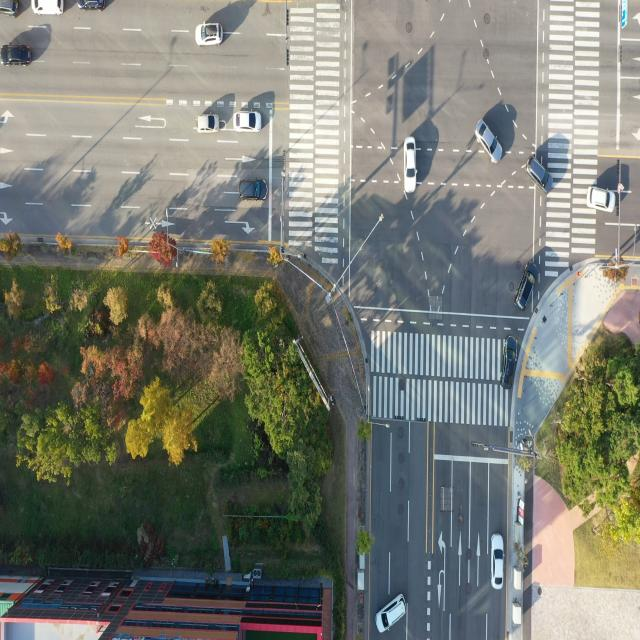car: (516, 258, 542, 313), (477, 120, 505, 168), (376, 594, 407, 636), (525, 156, 553, 193), (500, 332, 518, 389), (0, 42, 32, 69), (404, 135, 418, 194), (587, 185, 617, 212), (490, 534, 504, 591), (195, 23, 224, 47), (28, 0, 66, 18), (239, 179, 267, 201), (236, 110, 262, 131), (198, 112, 222, 132), (77, 0, 106, 13), (0, 0, 19, 18)
